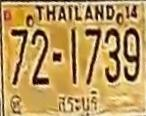1: (71, 28, 77, 84)
2: (31, 29, 50, 85)
3: (104, 28, 120, 82)
7: (84, 28, 102, 85), (11, 28, 27, 85)
9: (123, 28, 139, 81)
SRI: (55, 86, 99, 116)
